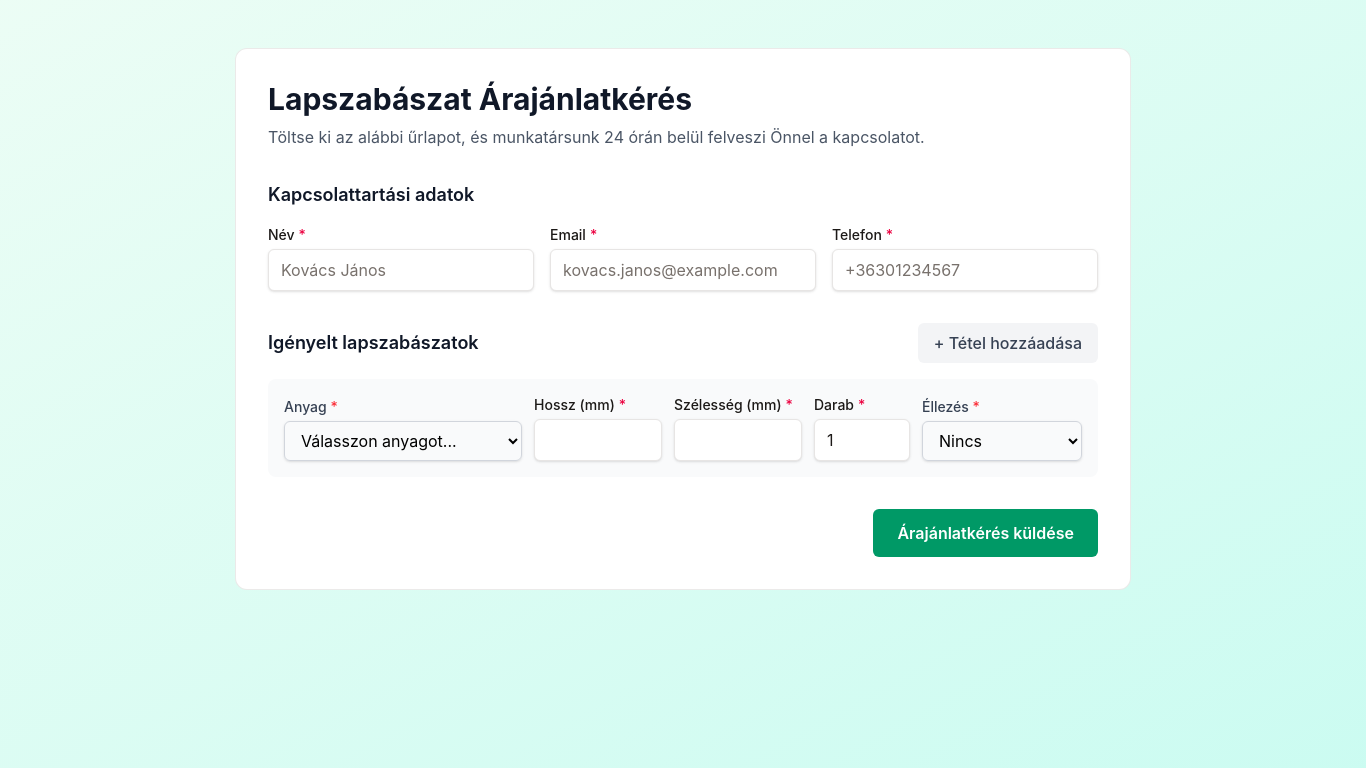
Test: PublicQuoteRequestPage › validates email format
Type "Test User" into the field labelled "Név*" at (401,270), box [268,249,534,291]
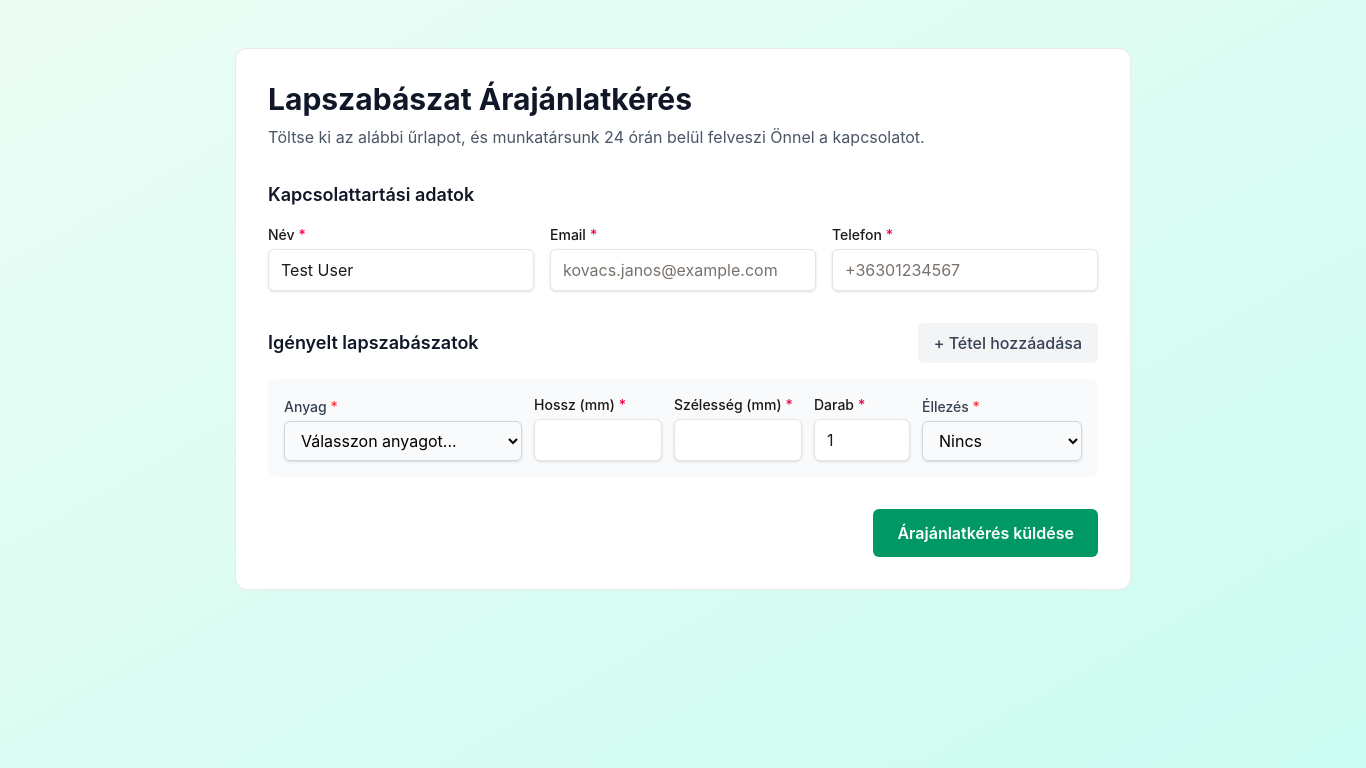
Type "invalid-email" into the field labelled "Email*" at (683,270), box [550,249,816,291]
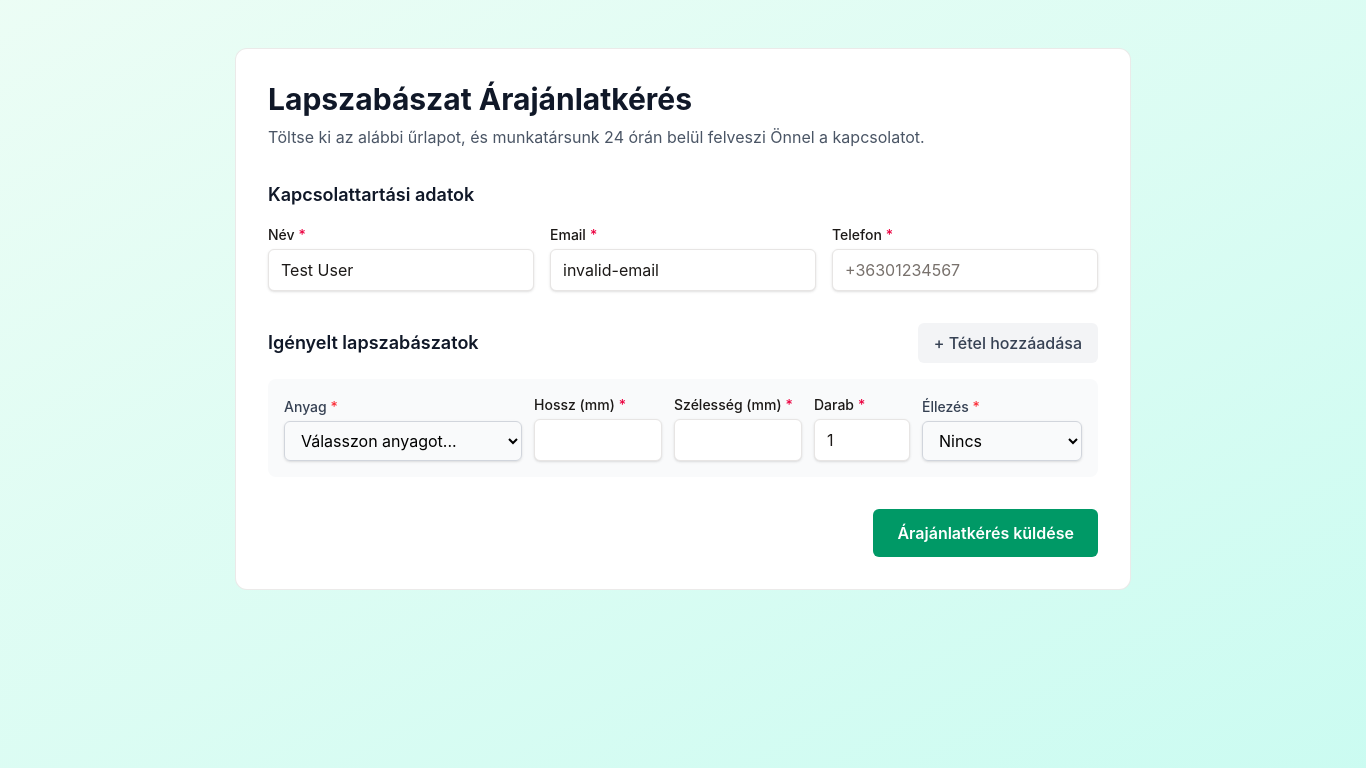
Click the button "Árajánlatkérés küldése" at (986,533), box [874,509,1098,557]
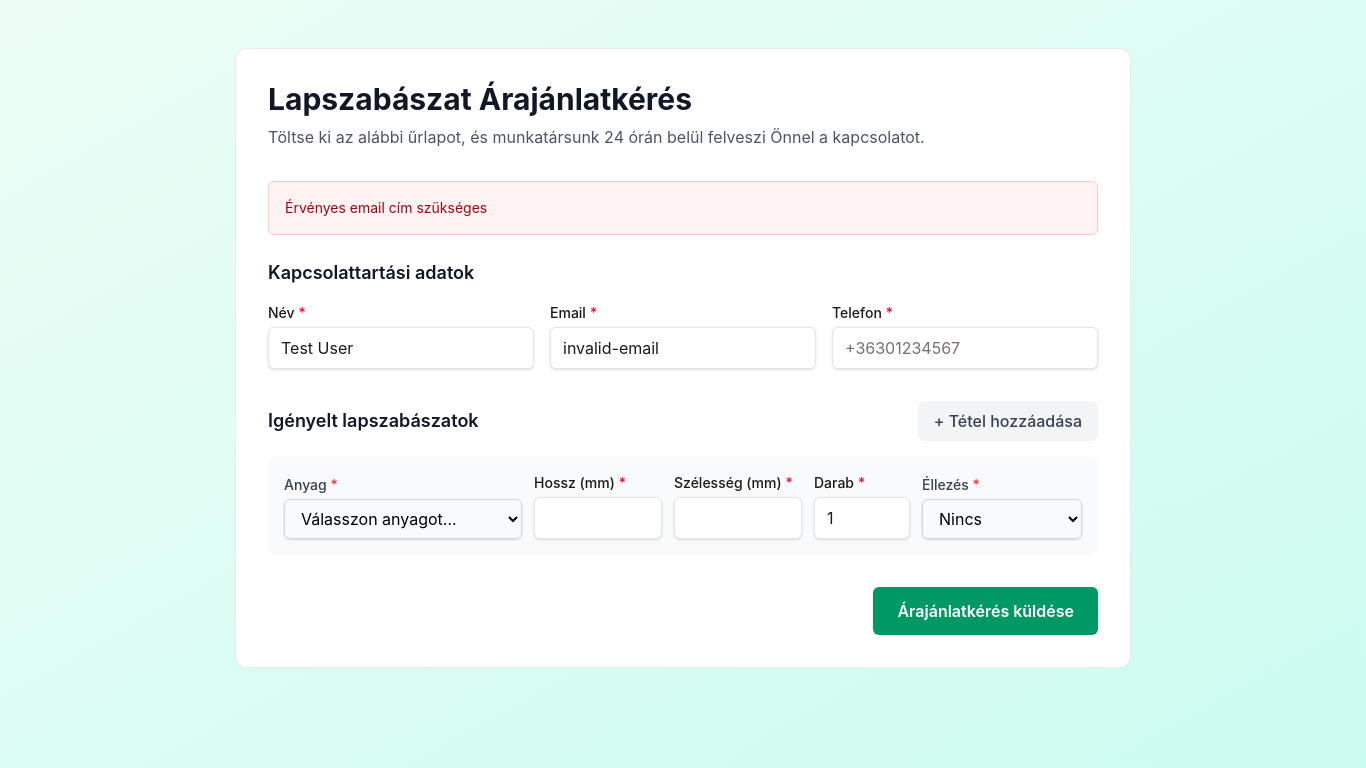
Expected: the text "Érvényes email cím szükséges" is shown, [285,199,487,216]
